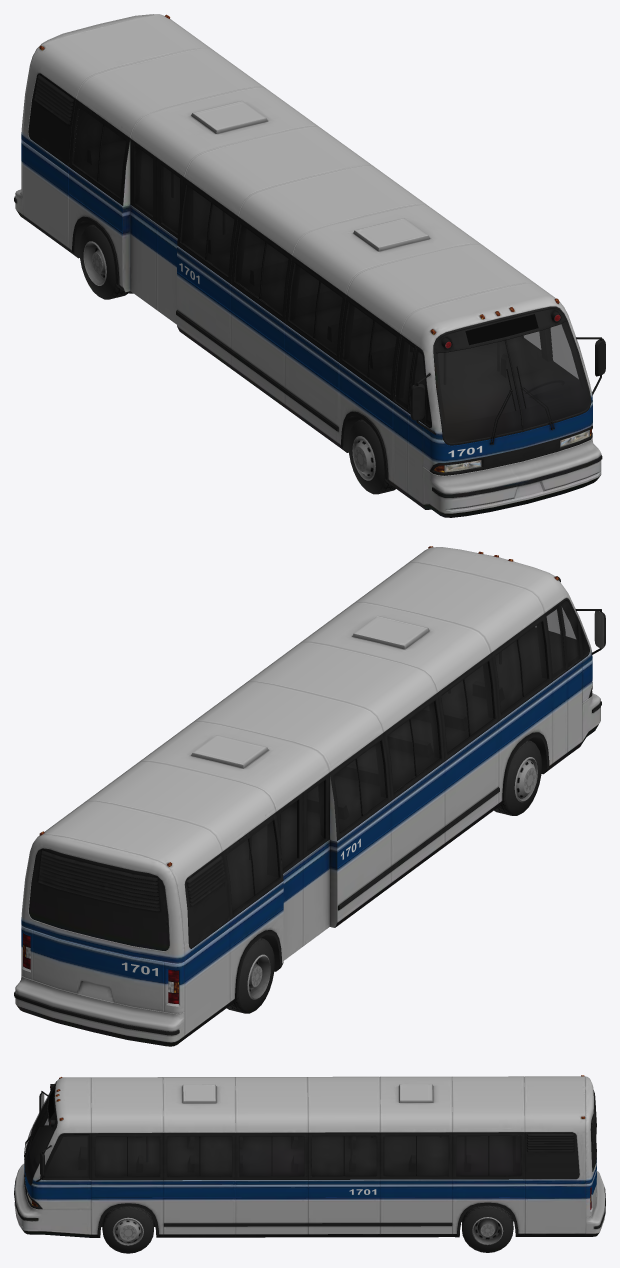
File: citybus.glb
3 views of the same model, one above another, from view 1: azimuth 30°, elevation 25°; view 2: azimuth 150°, elevation 25°; view 3: azimuth 270°, elevation 25° (orthographic). The views are drawn at different scales.
Parts seen in each view (by area): view 1: citybus_citybus_0, citybus_citybus_glass_0 (×2), citybus_CityBus_optics_0; view 2: citybus_citybus_0, citybus_citybus_glass_0, citybus_CityBus_optics_0; view 3: citybus_citybus_0, citybus_citybus_glass_0.
Boxes of the visible parts, x1,y1,x2,y2 form: citybus_citybus_0: (14,14,605,517); citybus_citybus_glass_0 (×2): (74,108,589,442); citybus_CityBus_optics_0: (39,14,591,472); citybus_citybus_0: (14,547,605,1046); citybus_citybus_glass_0: (226,601,588,911); citybus_CityBus_optics_0: (23,546,558,1003); citybus_citybus_0: (14,1076,605,1253); citybus_citybus_glass_0: (24,1093,520,1183).
Bounding box in the file's own units: 2.54 × 2.52 × 9.95.
5 materials, 4 textured.
